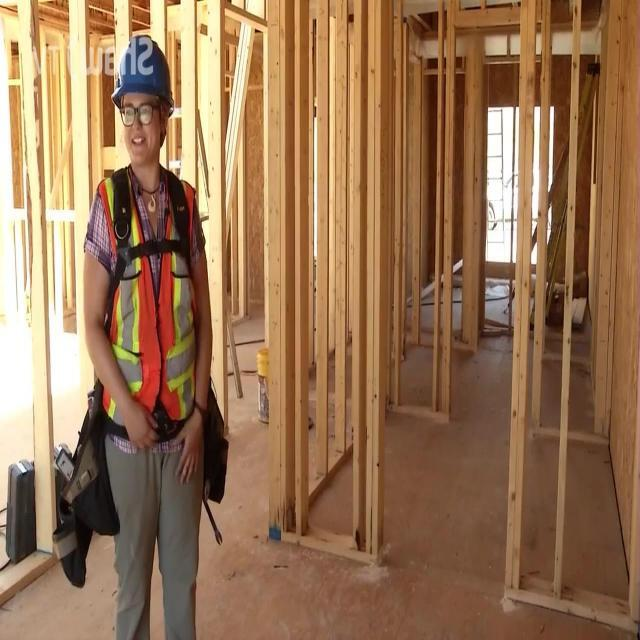reflective_jacket: (68, 162, 223, 458)
safety_helmet: (103, 23, 183, 122)
